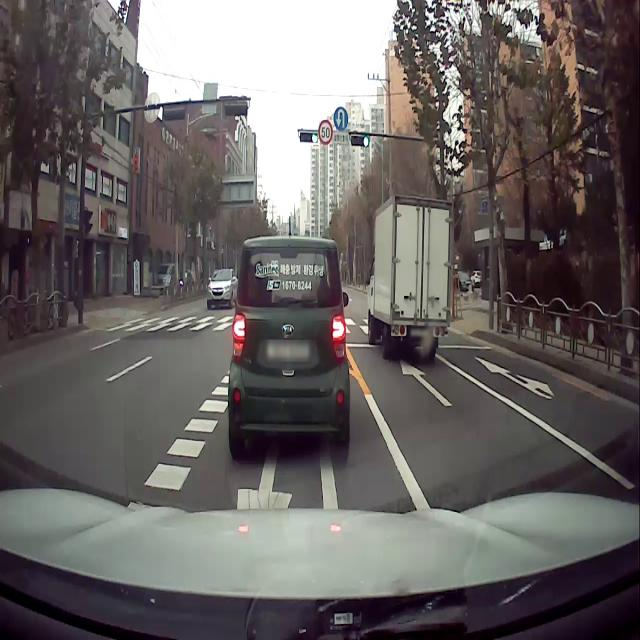Green Light: (362, 136, 369, 146), (312, 132, 318, 143)
